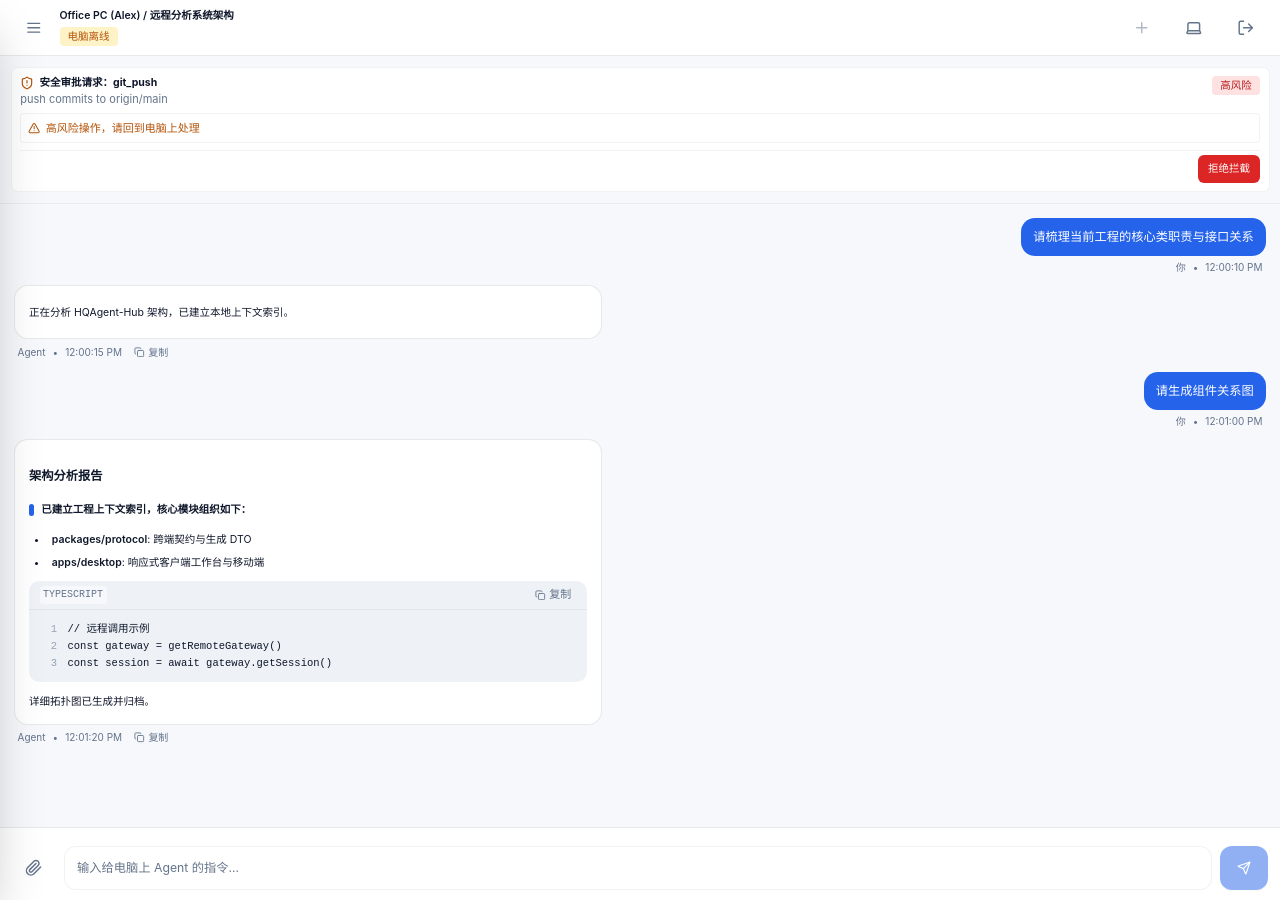
Test: R1.5 Remote Features: Multi-PC, Workspace Grouping, Pagination, Settings & Offline Lock › Immediate Offline Rejection & Input Retention › immediately rejects sending when offline, displays error, and retains composer text
Step 1. Type "离线保留的未发送输入" into the text box with placeholder "输入给电脑上 Agent 的指令..." → (638, 868), box left=64, top=846, right=1212, bottom=890
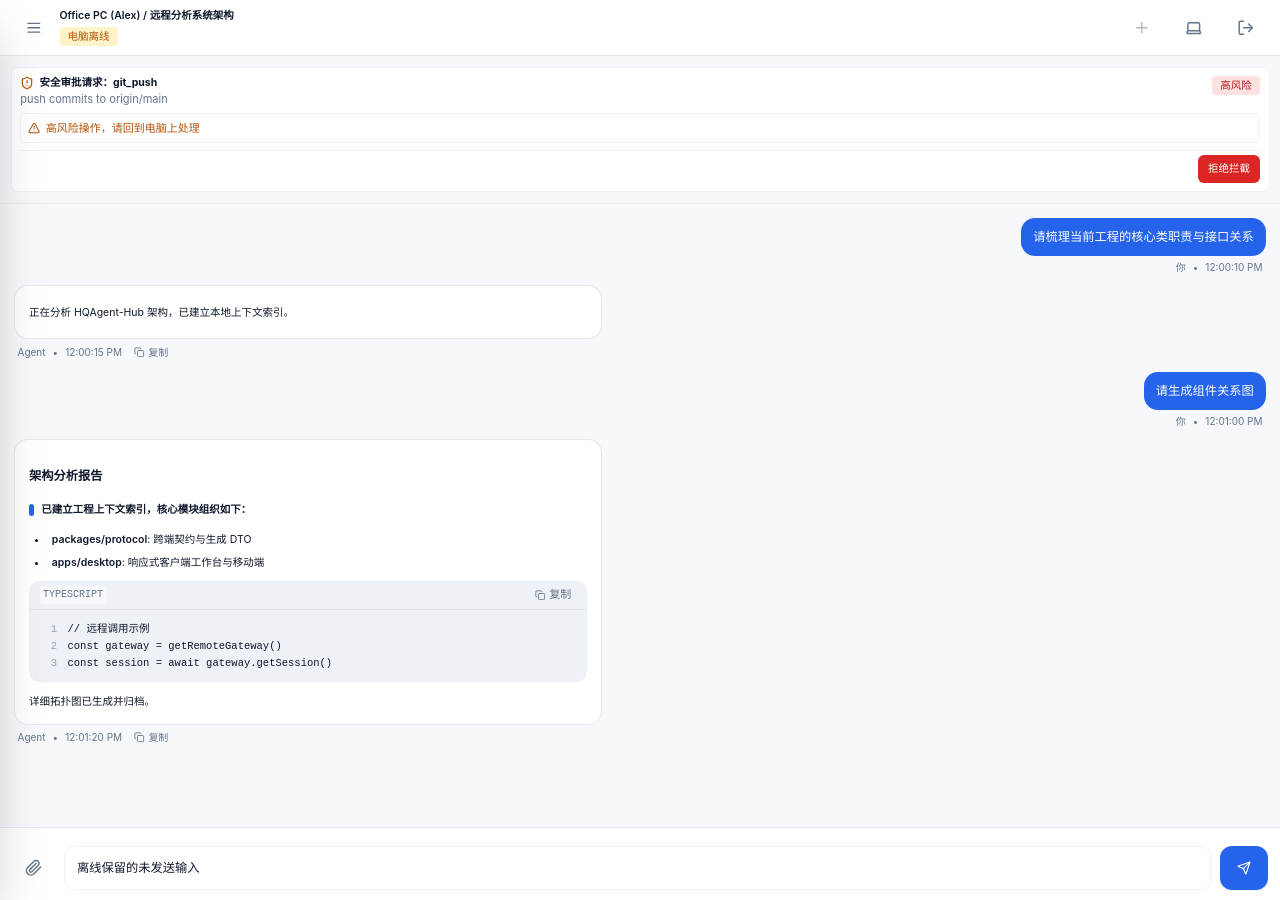
// Trigger send via Enter key
Step 2. Press Enter in the text box, box left=64, top=846, right=1212, bottom=890
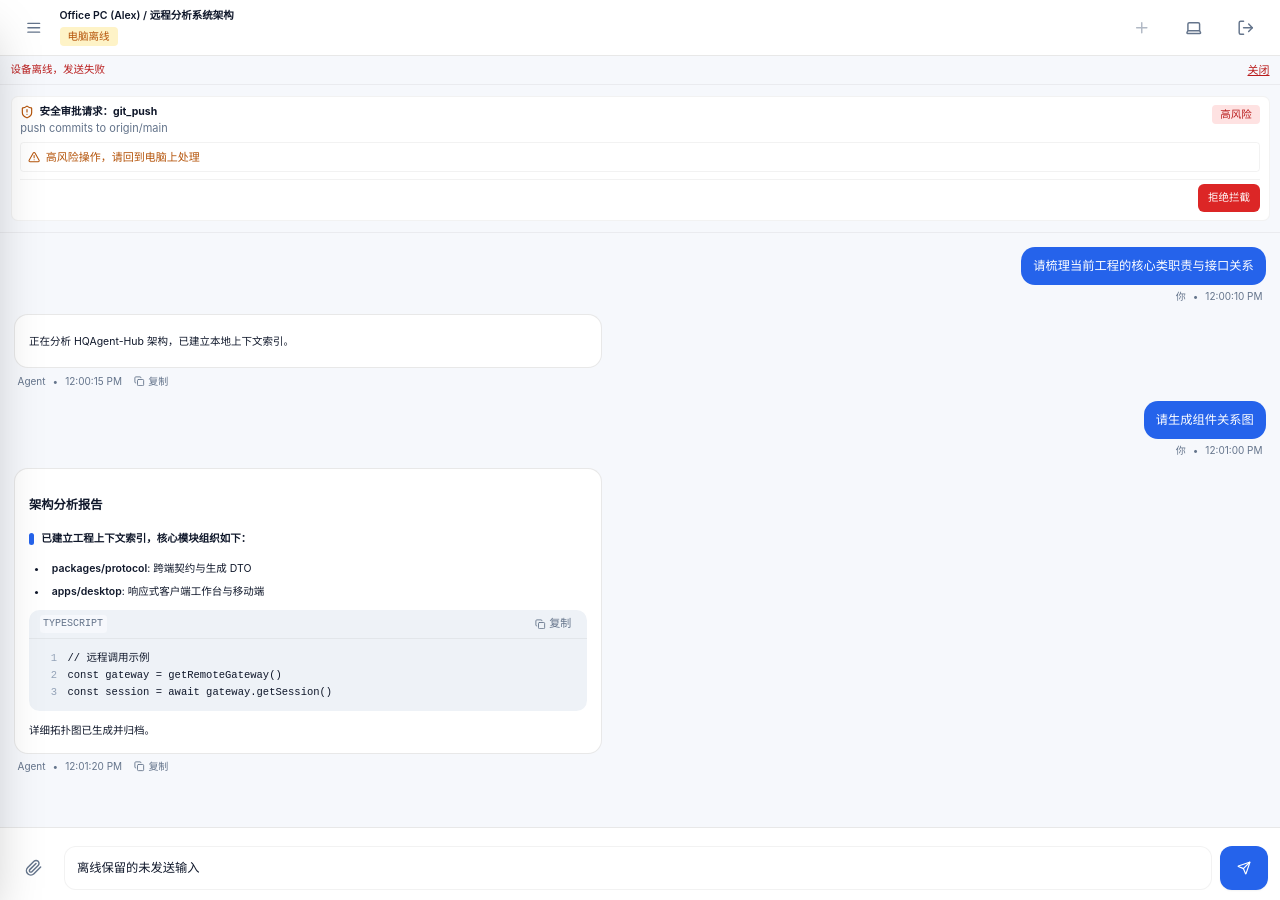
Expected: the text "设备离线，发送失败" is shown, left=10, top=63, right=105, bottom=77
